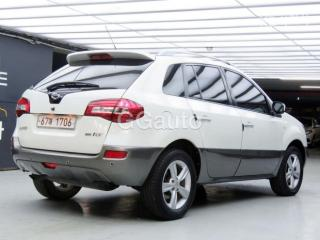0: (64, 118, 68, 127)
1: (56, 117, 59, 126)
6: (40, 117, 45, 126), (68, 118, 72, 127)
7: (59, 117, 64, 126), (45, 117, 48, 125)
마: (48, 117, 54, 126)
